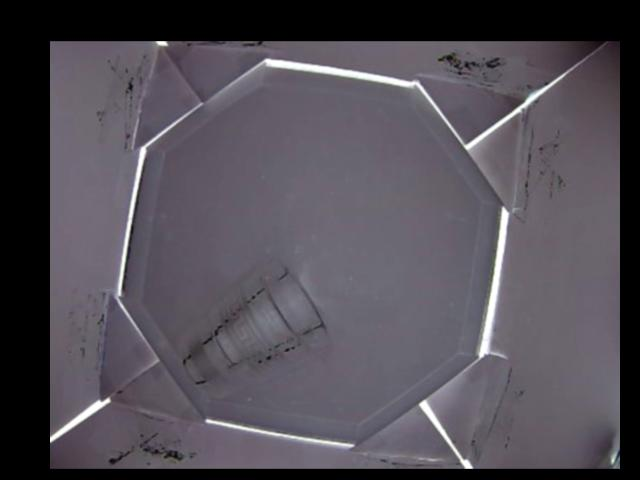Cup: (182, 249, 334, 388)
